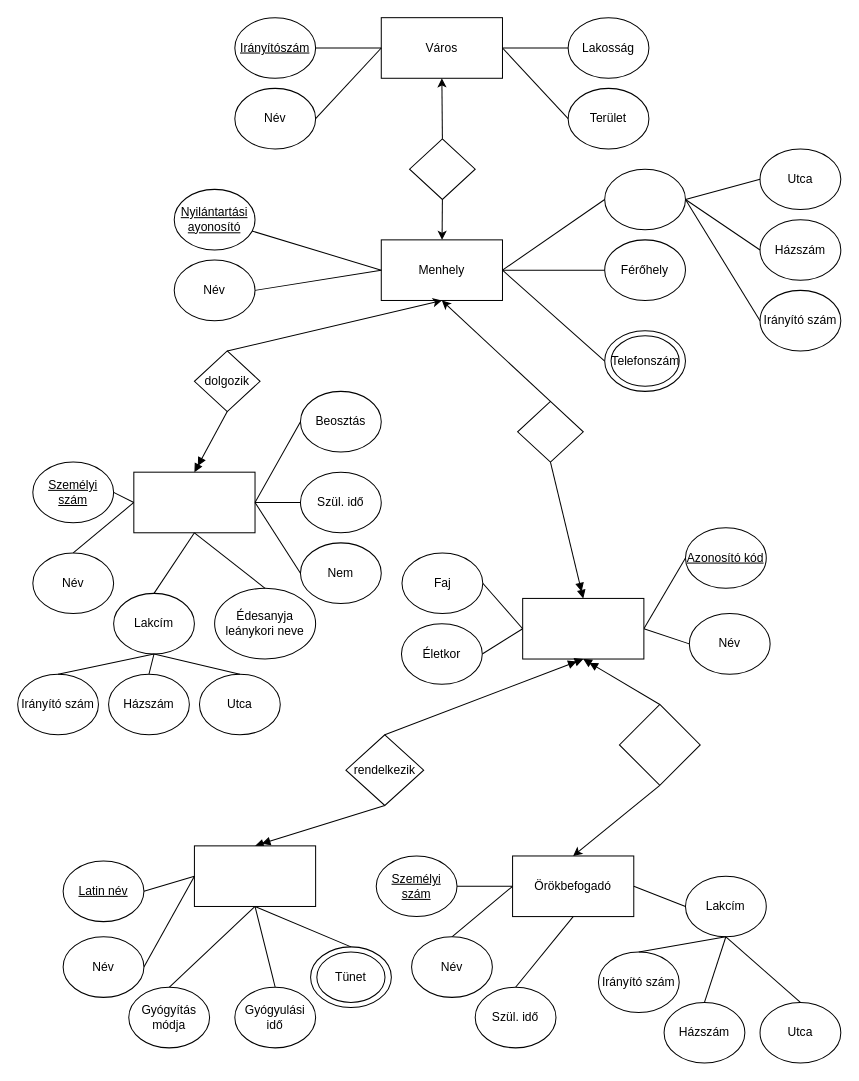
This 859x1081 diagram has some shape labels left out. The centre of each missing label's shape, as x and y in pixels:
befogad: (x=550, y=431)
Betegség: (x=254, y=875)
Cím: (x=644, y=199)
Dolgozó: (x=194, y=502)
tartalmaz: (x=442, y=168)
Állat: (x=583, y=628)
örökbefogad: (x=659, y=744)
